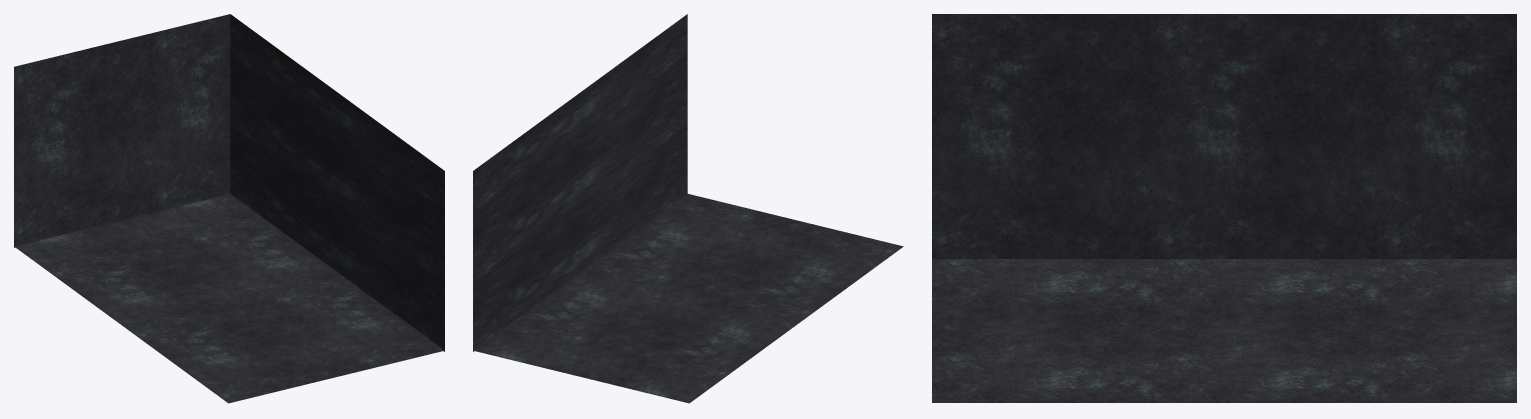
File: SM_cave_inner.glb
3 views of the same model, side by side, from view 1: azimuth 30°, elevation 25°; view 2: azimuth 150°, elevation 25°; view 3: azimuth 270°, elevation 25° (orthographic). The views are drawn at different scales.
Parts seen in each view (by area): view 1: SM_cave_inner; view 2: SM_cave_inner; view 3: SM_cave_inner.
Boxes of the visible parts, left/top/right/bottom form: SM_cave_inner: left=14, top=14, right=444, bottom=403; SM_cave_inner: left=473, top=14, right=903, bottom=403; SM_cave_inner: left=932, top=14, right=1516, bottom=402.
Bounding box in the file's own units: 6 × 4.8 × 10.3.
Materials: 1 (1 with a texture image).
